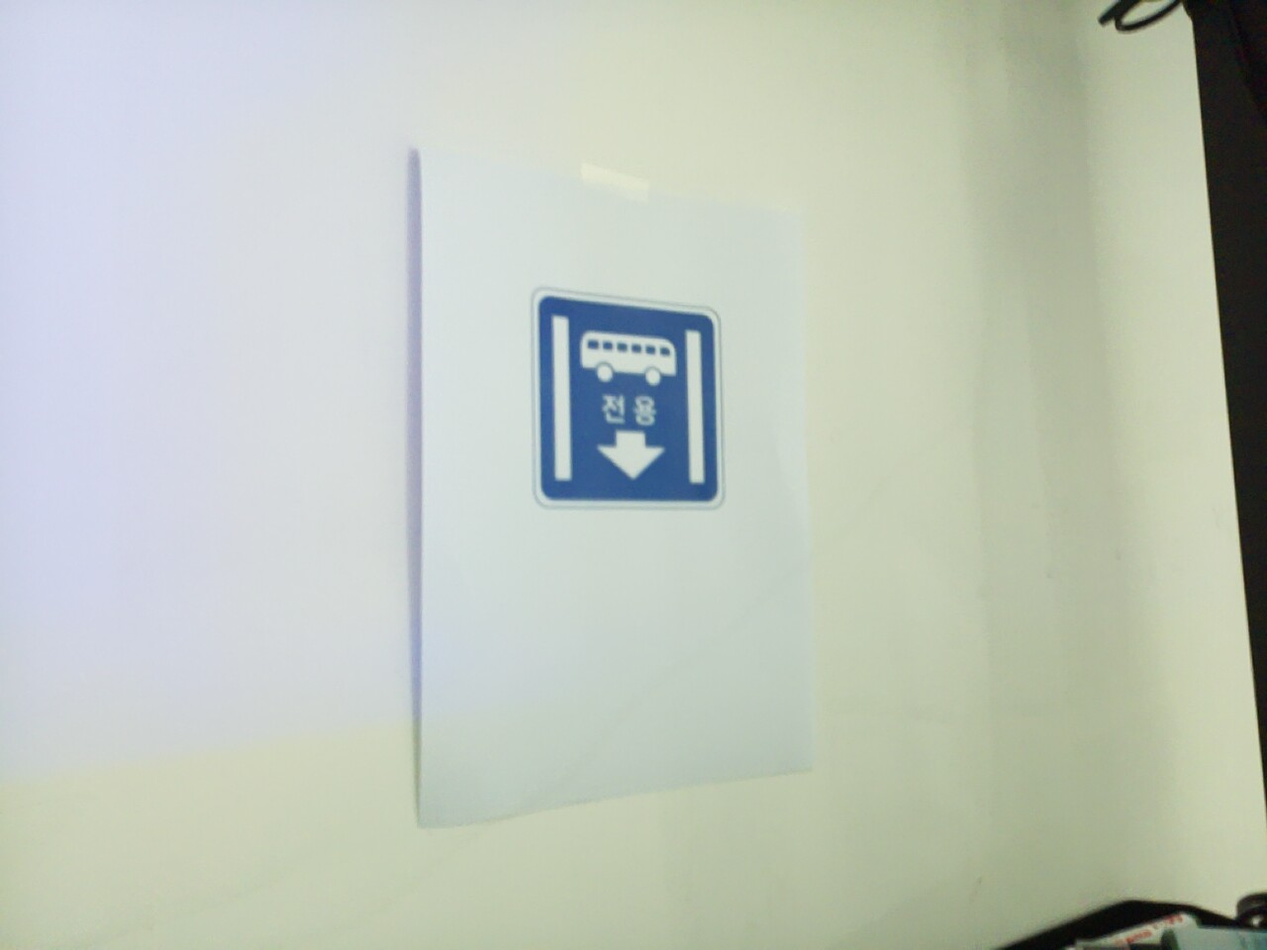bus_only_lane: (532, 288, 725, 510)
